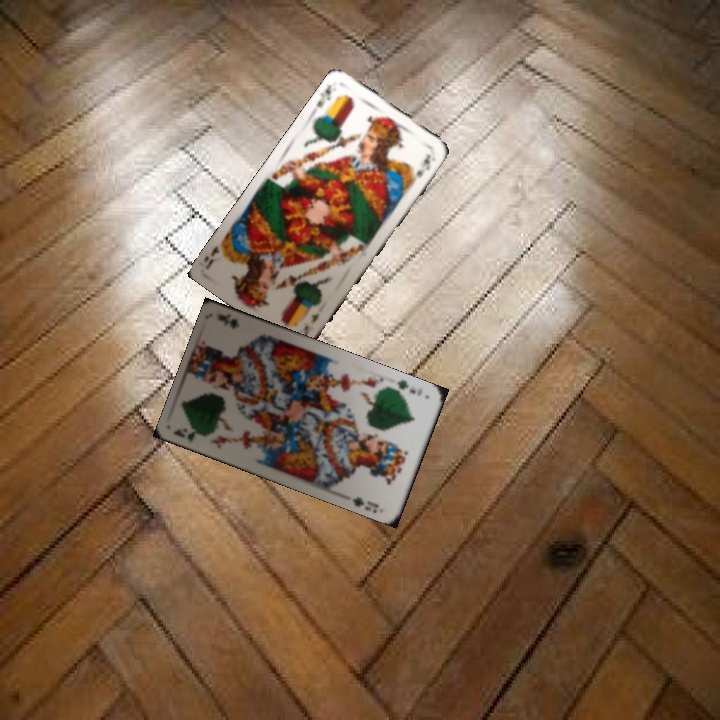EK: (312, 80, 335, 111), (299, 309, 322, 338)
GK: (170, 424, 212, 445), (388, 375, 425, 398)
